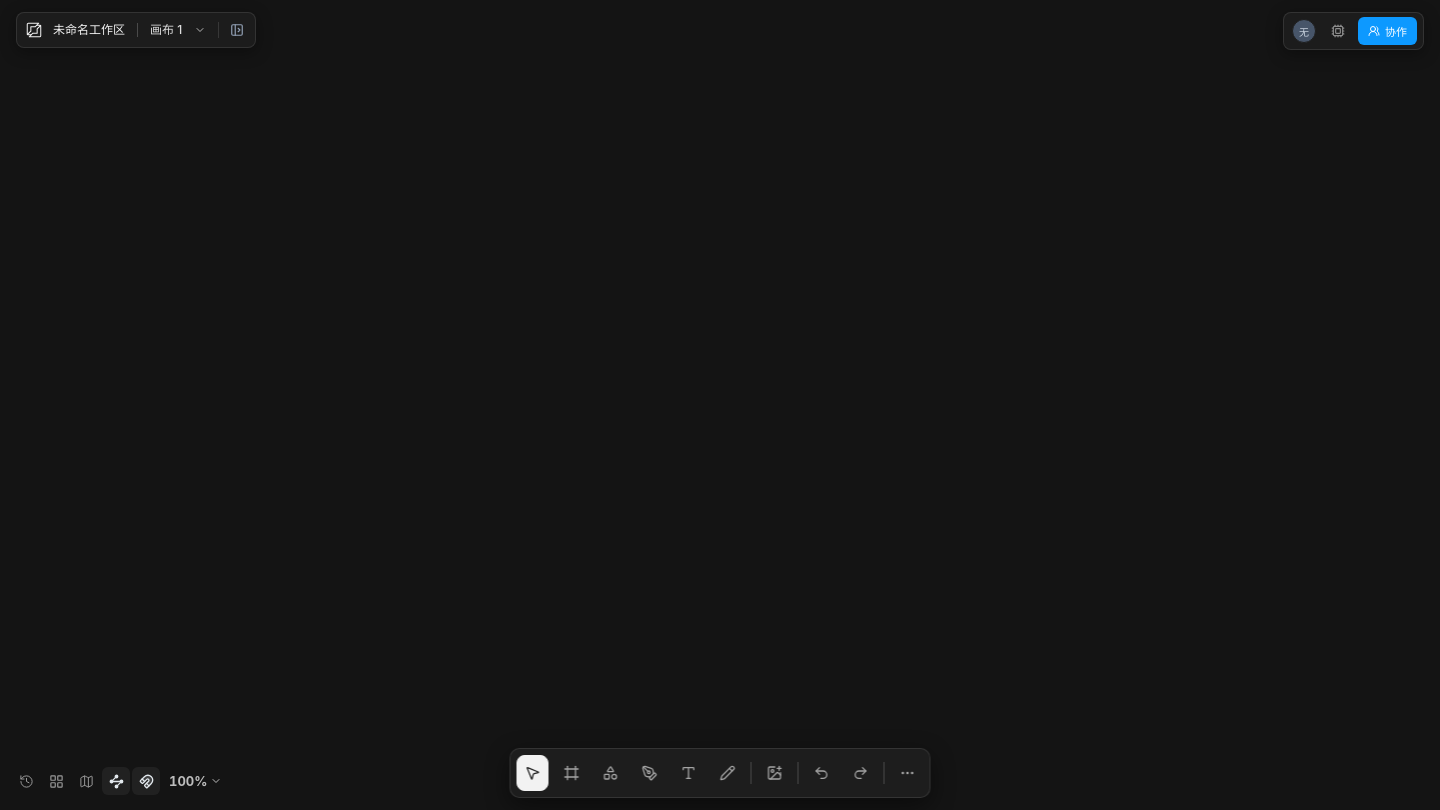
it: canvas application integration › gates editing through hydration and confirms project deletion
The width and height of the screenshot is (1440, 810).
Later steps or results of the test are not shown.
Click the button "未命名工作区 画布 1".
click(116, 30)  # box x1=17 y1=13 x2=214 y2=47
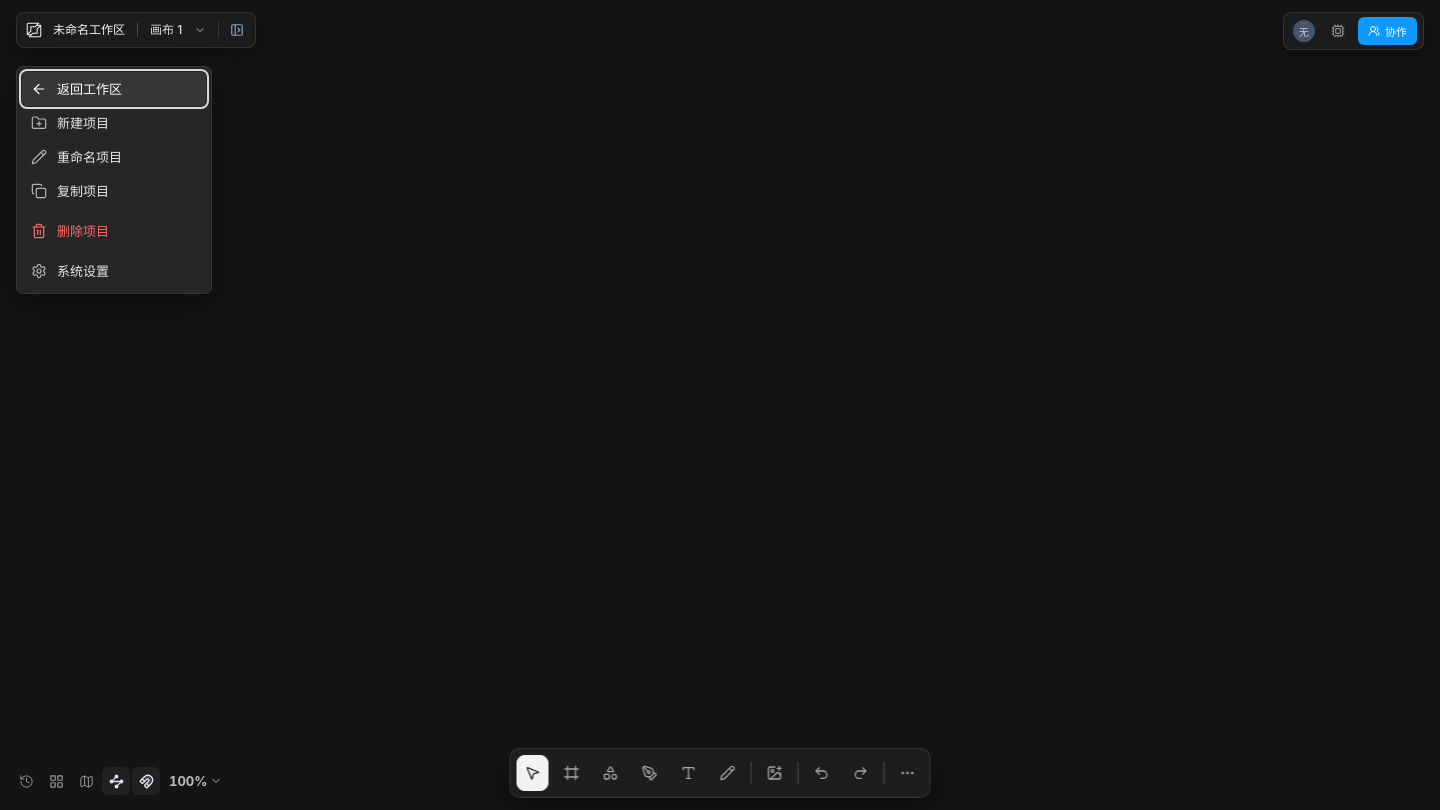
Click the menu item "删除项目".
click(114, 231)  # box x1=22 y1=214 x2=206 y2=248
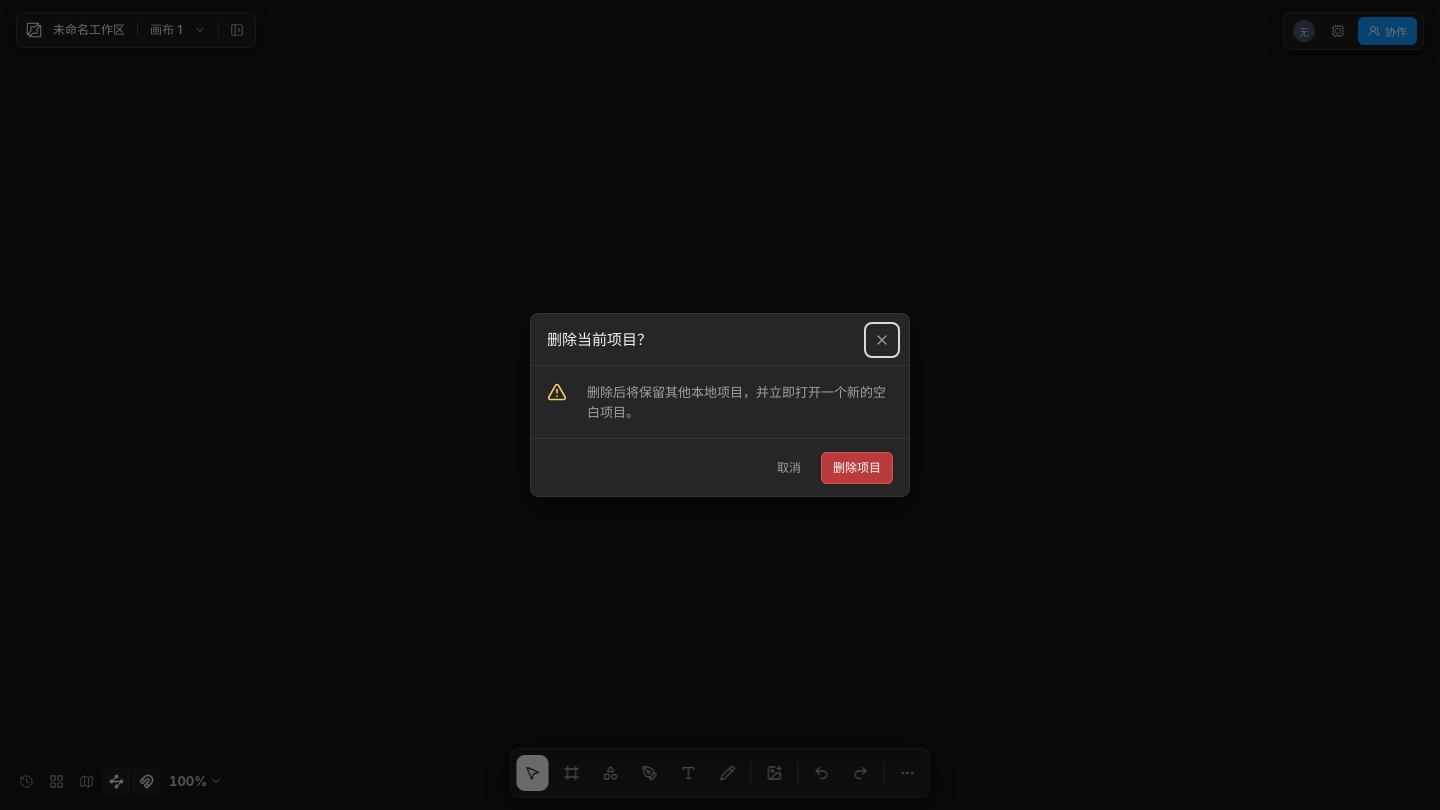
Now the dialog "删除当前项目？" is shown, box x1=530 y1=313 x2=910 y2=497
